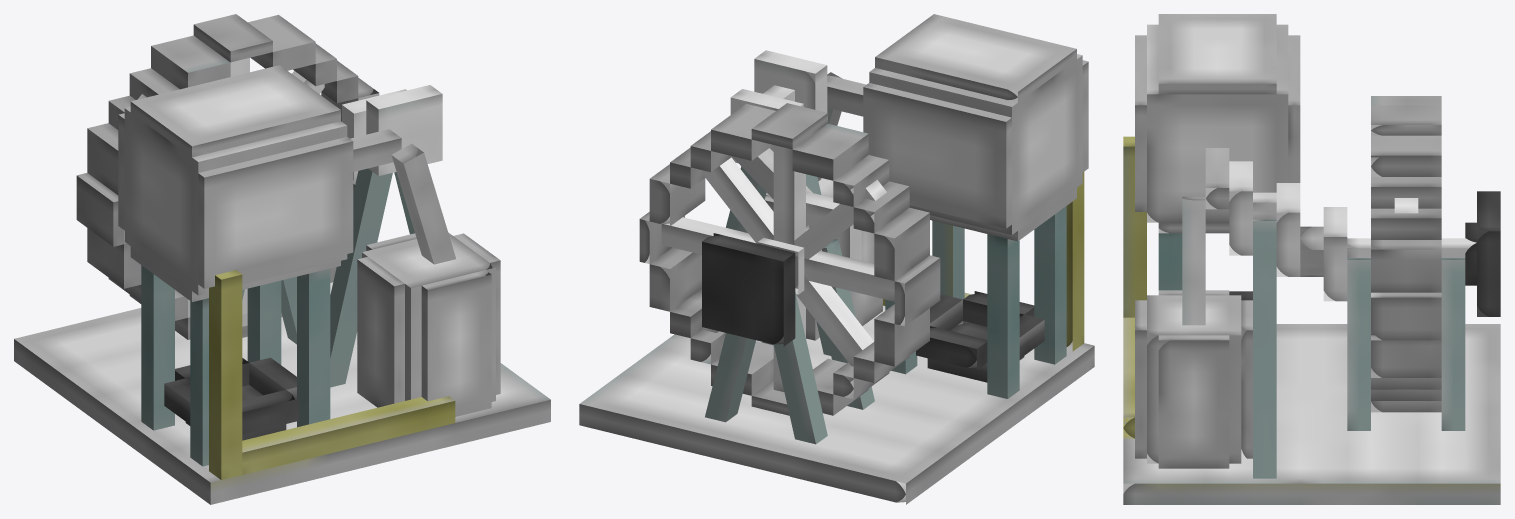
The model's file is stirling_generator.obj.
3 renders of one model, left to right at view 1: azimuth 30°, elevation 25°; view 2: azimuth 150°, elevation 25°; view 3: azimuth 270°, elevation 25°, orthographic. The views are drawn at different scales.
Parts seen in each view (by area): view 1: base, part1.flywheel_mount.flywheel2.Box01, part1.crank_mount.piston_crank.Box02, part1.crank_mount.piston_crank.piston_arm2.Box01, part1.crank_mount.piston_crank.piston_arm.Box01, part1.piston_crank2.Box01; view 2: base, part1.flywheel_mount.flywheel2.Box01, part1.crank_mount.piston_crank.Box02, part1.crank_mount.piston_crank.piston_arm.Box01, part1.flywheel_mount.flywheel2.flywheel_arm.Box01, part1.piston_crank2.Box01; view 3: base, part1.flywheel_mount.flywheel2.Box01, part1.crank_mount.piston_crank.piston_arm2.Box01, part1.crank_mount.piston_crank.Box02, part1.piston_crank2.Box01, part1.crank_mount.piston_crank.piston_arm.Box01, part1.flywheel_mount.flywheel2.flywheel_arm.Box01.
Part boxes in pixels (left/top/right/bottom): base: left=14, top=65, right=550, bottom=504; part1.flywheel_mount.flywheel2.Box01: left=76, top=14, right=379, bottom=339; part1.crank_mount.piston_crank.Box02: left=366, top=85, right=442, bottom=175; part1.crank_mount.piston_crank.piston_arm2.Box01: left=391, top=143, right=455, bottom=264; part1.crank_mount.piston_crank.piston_arm.Box01: left=350, top=129, right=401, bottom=171; part1.piston_crank2.Box01: left=342, top=89, right=406, bottom=180; base: left=579, top=14, right=1094, bottom=504; part1.flywheel_mount.flywheel2.Box01: left=639, top=103, right=940, bottom=415; part1.crank_mount.piston_crank.Box02: left=754, top=50, right=827, bottom=112; part1.crank_mount.piston_crank.piston_arm.Box01: left=827, top=75, right=865, bottom=116; part1.flywheel_mount.flywheel2.flywheel_arm.Box01: left=732, top=148, right=812, bottom=199; part1.piston_crank2.Box01: left=730, top=89, right=803, bottom=163; base: left=1123, top=14, right=1500, bottom=504; part1.flywheel_mount.flywheel2.Box01: left=1323, top=96, right=1500, bottom=412; part1.crank_mount.piston_crank.piston_arm2.Box01: left=1182, top=196, right=1205, bottom=325; part1.crank_mount.piston_crank.Box02: left=1229, top=161, right=1276, bottom=255; part1.piston_crank2.Box01: left=1276, top=183, right=1300, bottom=276; part1.crank_mount.piston_crank.piston_arm.Box01: left=1205, top=148, right=1229, bottom=209; part1.flywheel_mount.flywheel2.flywheel_arm.Box01: left=1300, top=226, right=1323, bottom=276.
Bounding box in the file's own units: 1 × 0.9745 × 1.
